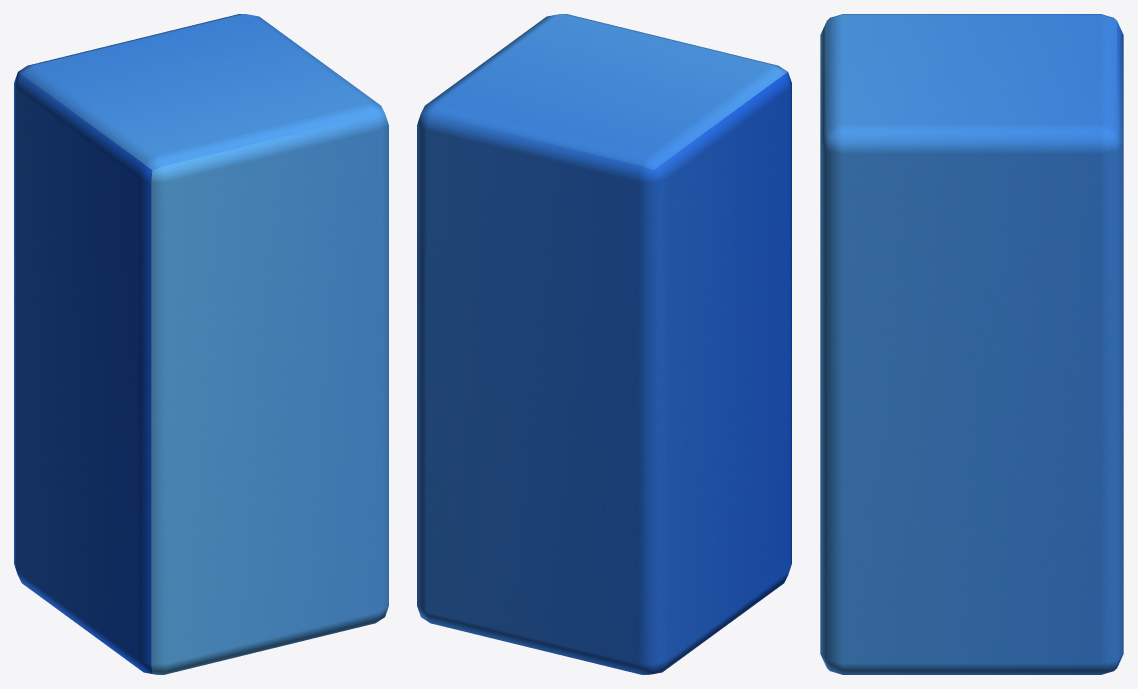
File: BlockCuboidBlue.fbx
The picture shows the model from 3 angles, left to right: view 1: azimuth 30°, elevation 25°; view 2: azimuth 150°, elevation 25°; view 3: azimuth 270°, elevation 25°; orthographic projection. The views are drawn at different scales.
Parts seen in each view (by area): view 1: Cube.009; view 2: Cube.009; view 3: Cube.009.
Part boxes in pixels (left/top/right/bottom): Cube.009: left=14, top=14, right=388, bottom=674; Cube.009: left=417, top=14, right=791, bottom=674; Cube.009: left=820, top=14, right=1123, bottom=674.
Bounding box in the file's own units: 200 × 400 × 200.
